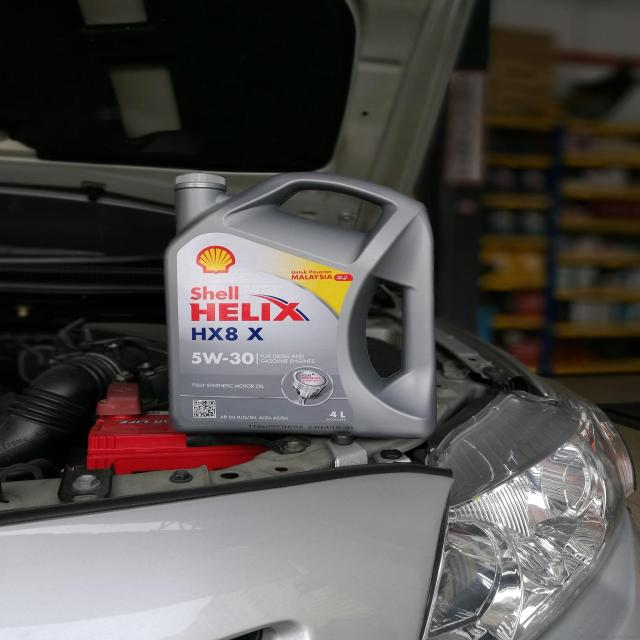motor_oil: (150, 157, 455, 449)
